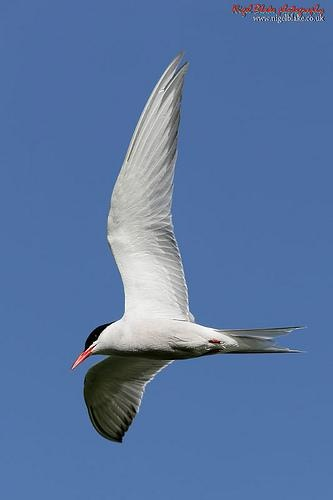bird: (69, 48, 306, 443)
